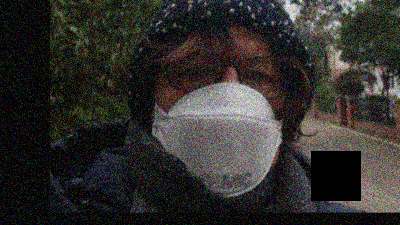with_mask: (151, 41, 288, 197)
